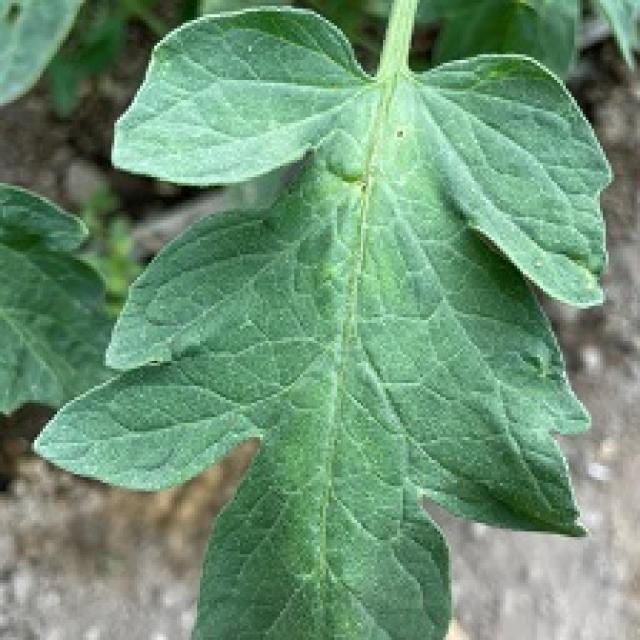Healthy: (32, 0, 611, 637)
